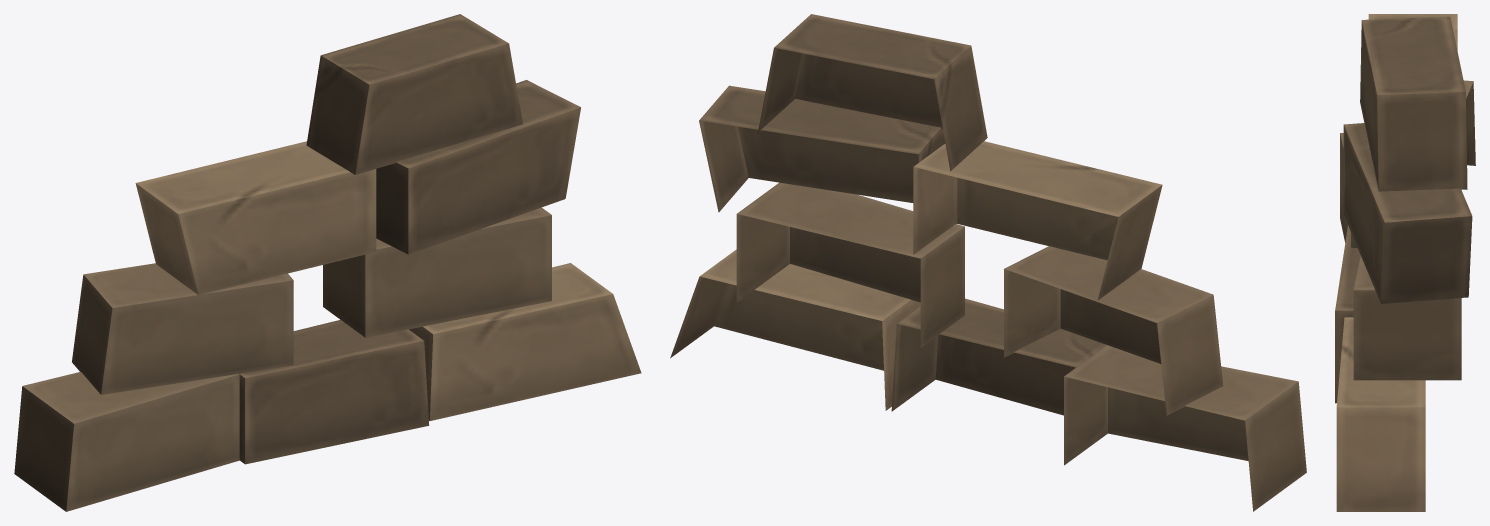
Rendered from desert_dungeon_prop_15.FBX.
The picture shows the model from 3 angles, left to right: view 1: azimuth 30°, elevation 25°; view 2: azimuth 150°, elevation 25°; view 3: azimuth 270°, elevation 25°; orthographic projection. The views are drawn at different scales.
Visible parts, largest first — view 1: Object013; view 2: Object013; view 3: Object013.
Boxes of the visible parts, <box> form: Object013: <box>14,14,641,511</box>; Object013: <box>670,14,1306,511</box>; Object013: <box>1335,14,1475,511</box>.
Bounding box in the file's own units: 68.81 × 13.97 × 39.34.
